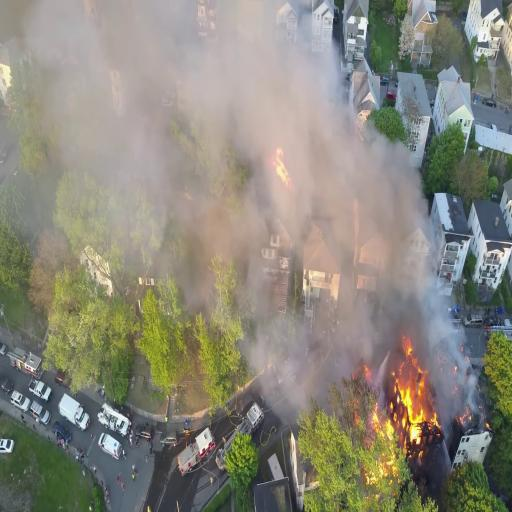fire: (396, 348, 434, 439)
